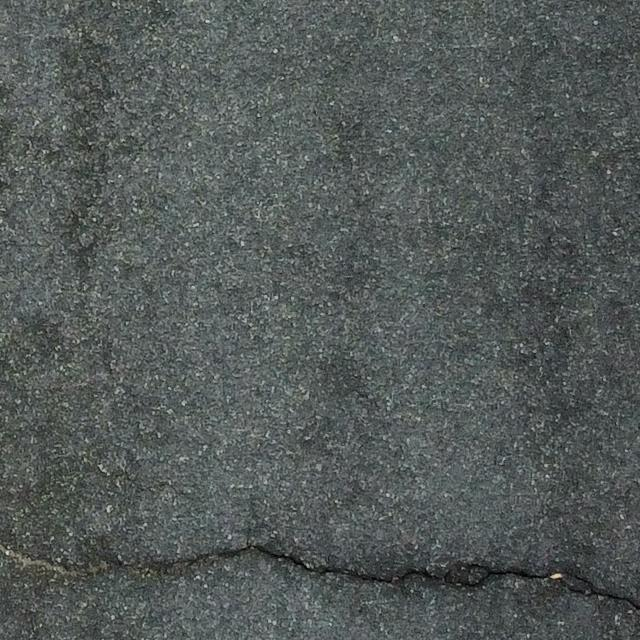TransverseCrack: (1, 544, 640, 609)
